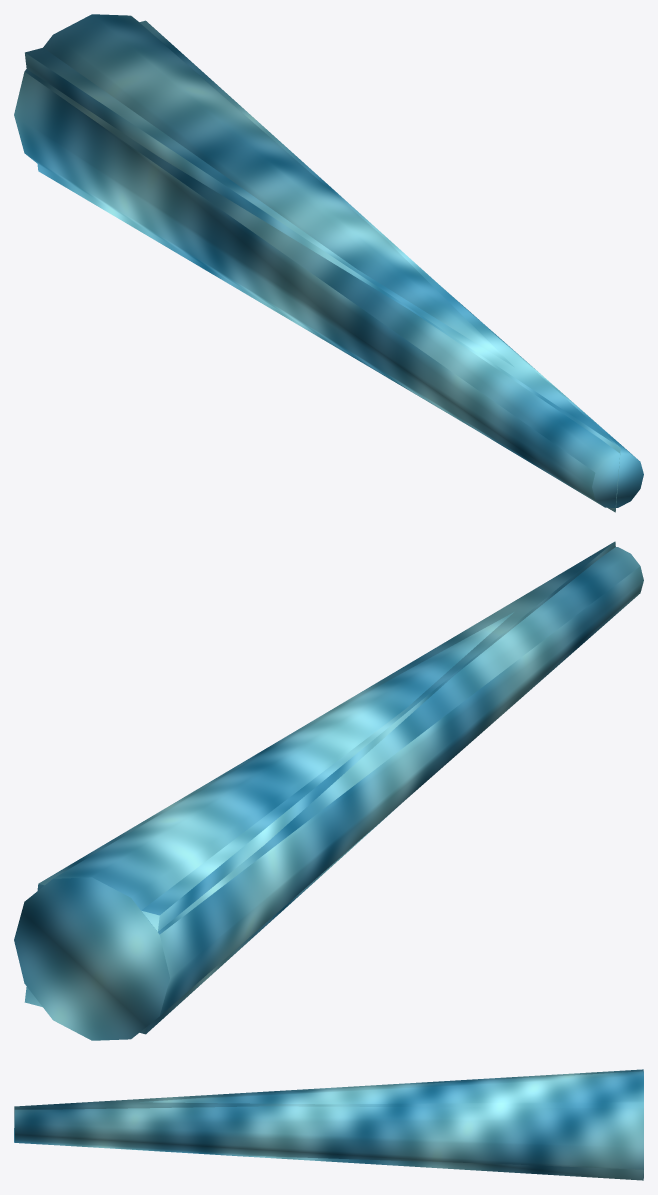
File: cell_cilia.fbx
3 renders of one model, top to bottom at view 1: azimuth 30°, elevation 25°; view 2: azimuth 150°, elevation 25°; view 3: azimuth 270°, elevation 25°, orthographic. The views are drawn at different scales.
Visible parts, largest first — view 1: cell_cilia_VIS, cell_cilia_COL; view 2: cell_cilia_VIS, cell_cilia_COL; view 3: cell_cilia_VIS, cell_cilia_COL.
Boxes of the visible parts, x1,y1,x2,y2 form: cell_cilia_VIS: (14, 14, 643, 507); cell_cilia_COL: (25, 20, 620, 512); cell_cilia_VIS: (14, 547, 643, 1040); cell_cilia_COL: (24, 541, 615, 1034); cell_cilia_VIS: (14, 1071, 643, 1178); cell_cilia_COL: (14, 1069, 643, 1180).
Size of the model in its own units: 12 by 12 by 70.06.
